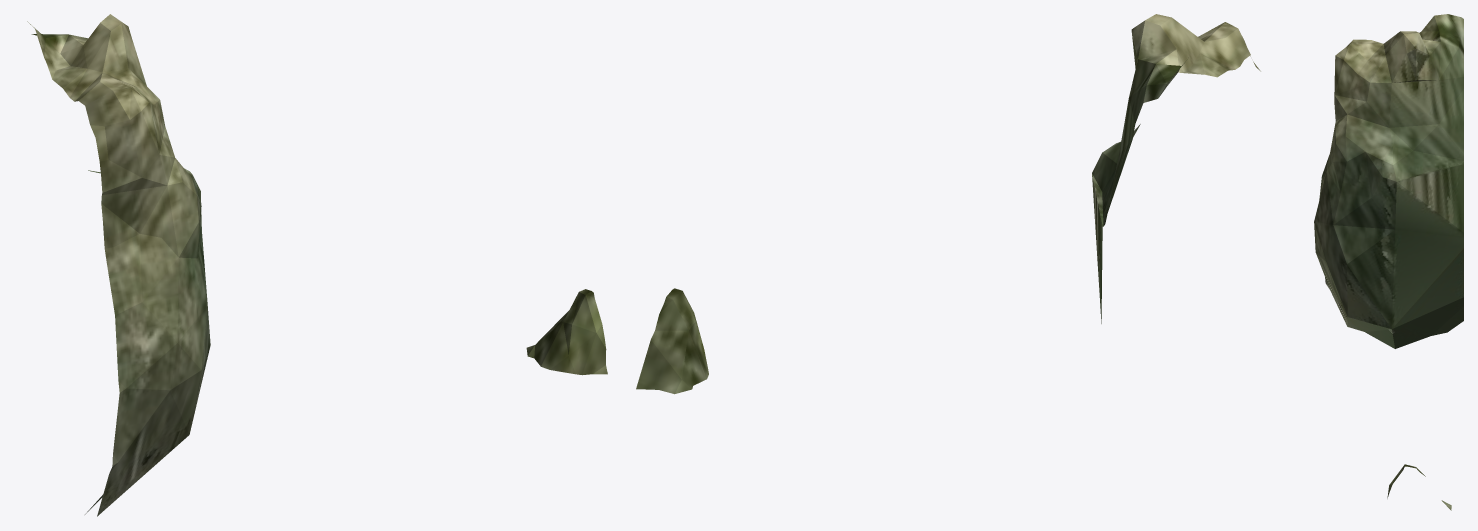
The picture shows the model from 3 angles, left to right: view 1: azimuth 30°, elevation 25°; view 2: azimuth 150°, elevation 25°; view 3: azimuth 270°, elevation 25°; orthographic projection. The views are drawn at different scales.
Size of the model in its own units: 2.95 by 2.4 by 1.01.
1 material, 1 textured.
